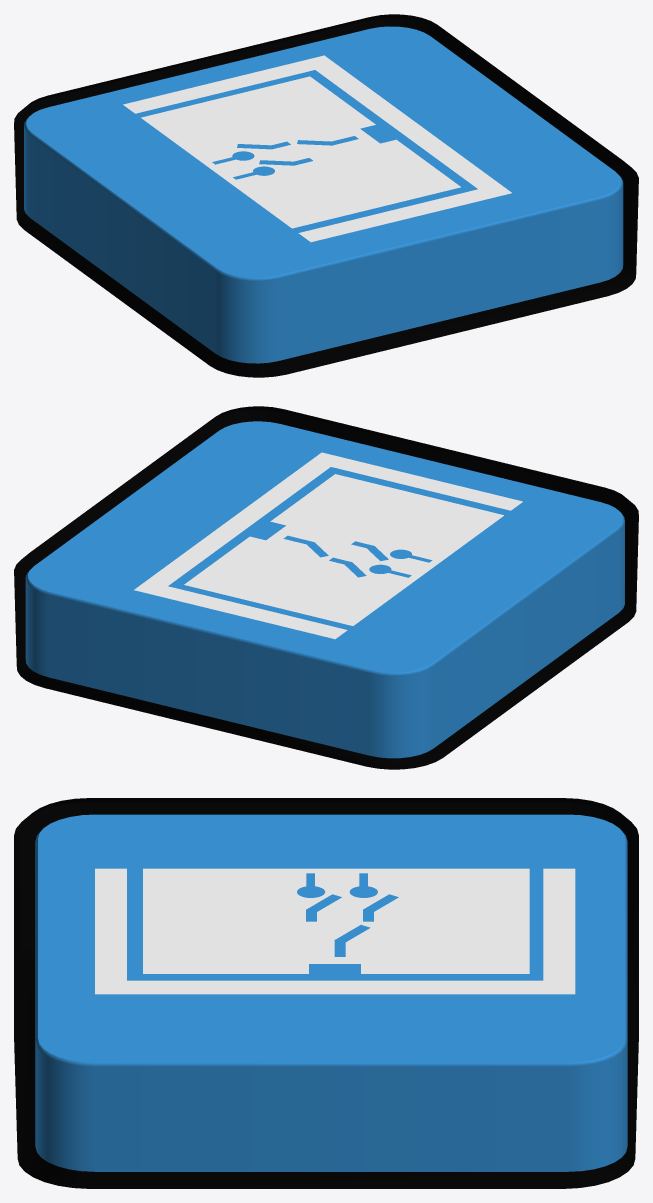
Rendered from STS.obj.
The picture shows the model from 3 angles, top to bottom: view 1: azimuth 30°, elevation 25°; view 2: azimuth 150°, elevation 25°; view 3: azimuth 270°, elevation 25°; orthographic projection. The views are drawn at different scales.
Visible parts, largest first — view 1: STS; view 2: STS; view 3: STS.
Boxes of the visible parts, bbox=[...] form: STS: bbox=[14, 14, 638, 377]; STS: bbox=[14, 406, 638, 769]; STS: bbox=[14, 798, 638, 1188].
Bounding box in the file's own units: 1.06 × 0.2484 × 1.06.
